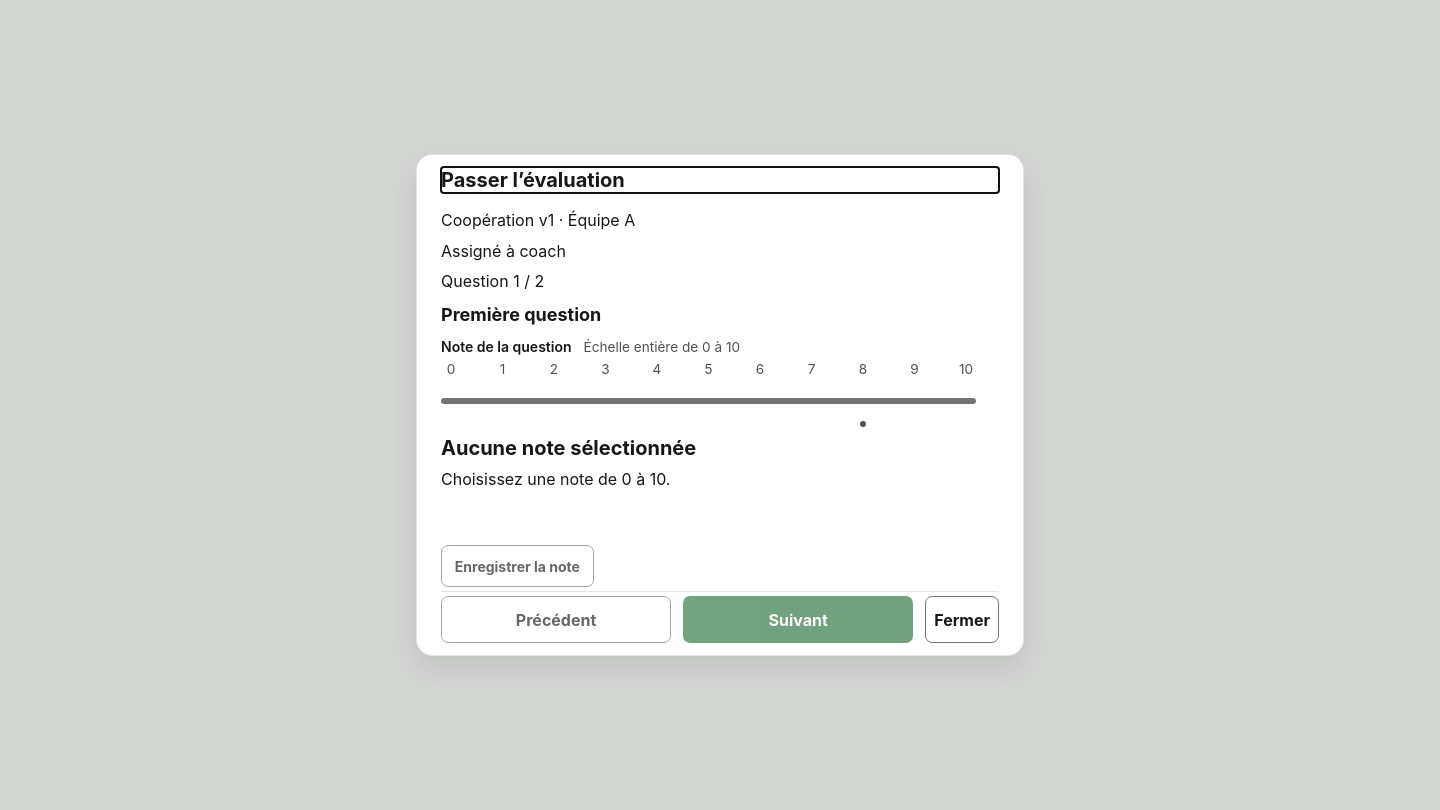
Test case: persists slider selection through the same API and preserves the fallback below all bounds
This screenshot has width=1440, height=810.
Set the slider to "8" at (864, 401), box [441, 381, 976, 421]
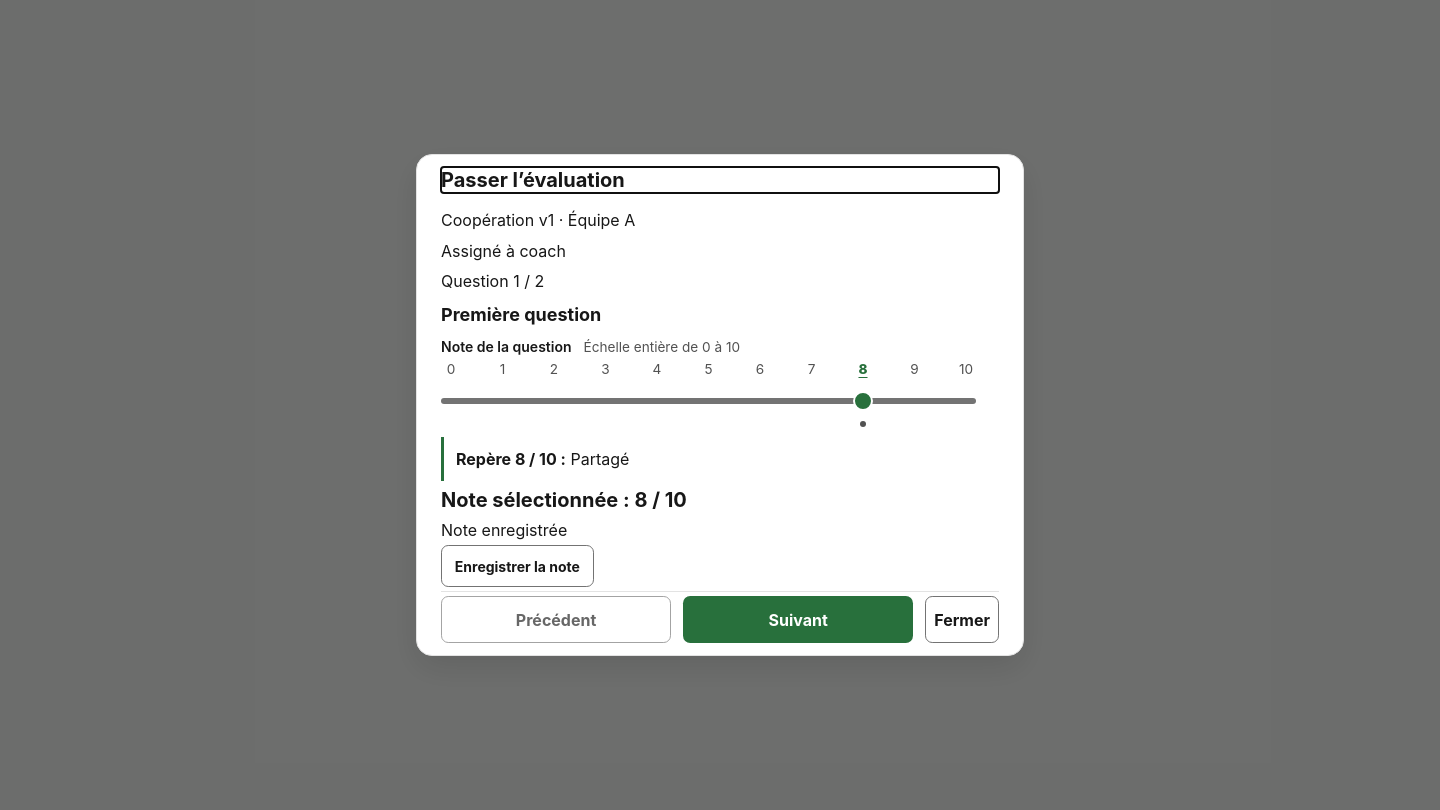
Check: the slider has attribute aria-valuetext="8 sur 10 : Partagé"
Set the slider to "7" at (812, 401), box [441, 381, 976, 421]
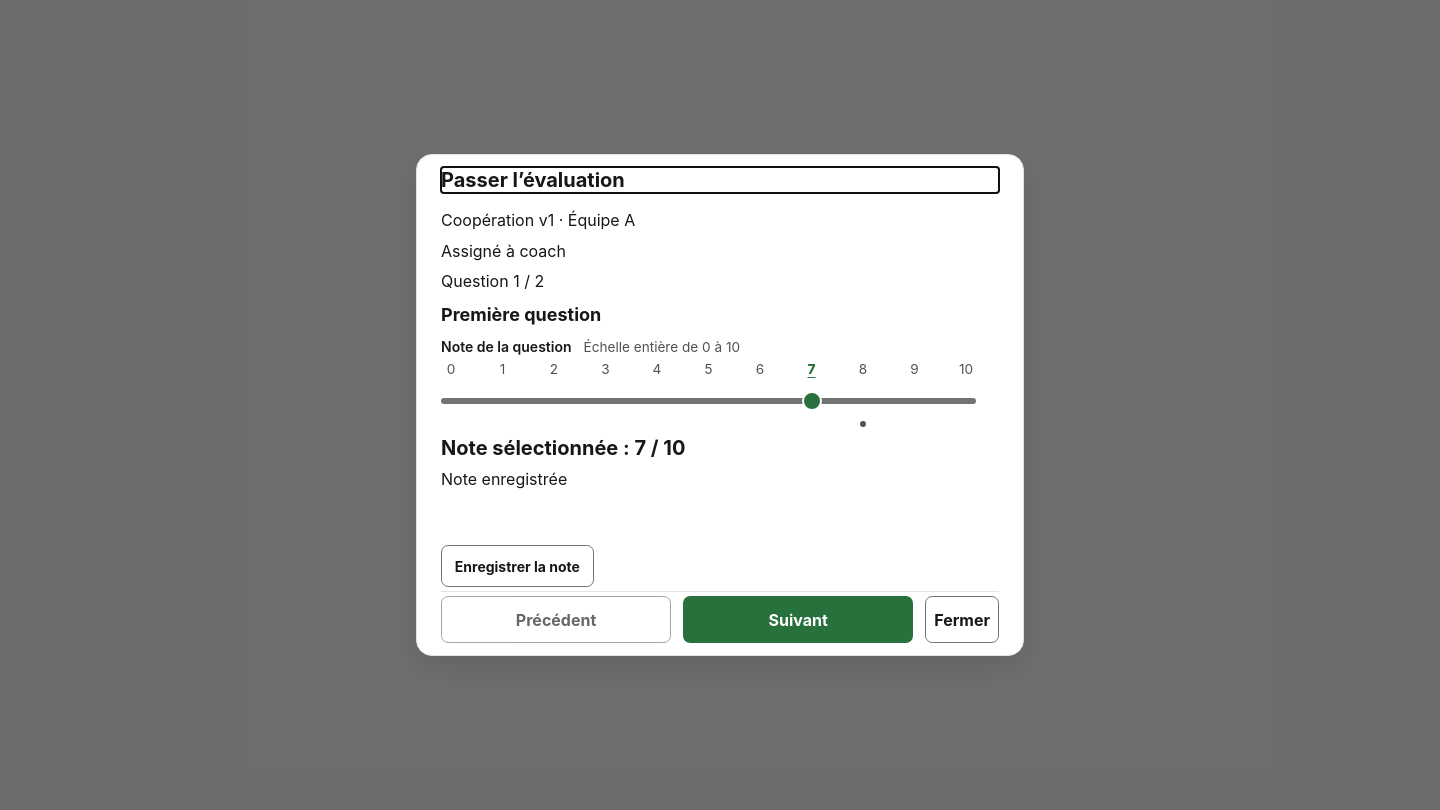
Check: the text "Repère" is gone
